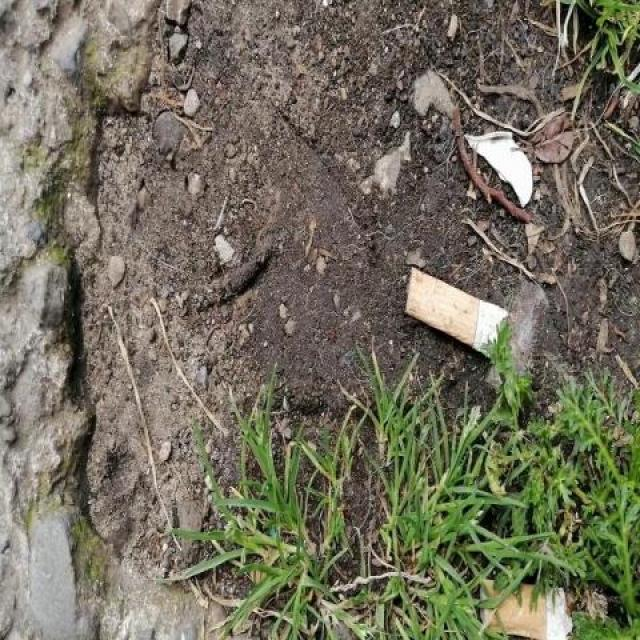non-organic waste: (402, 258, 514, 366), (475, 573, 577, 639)
